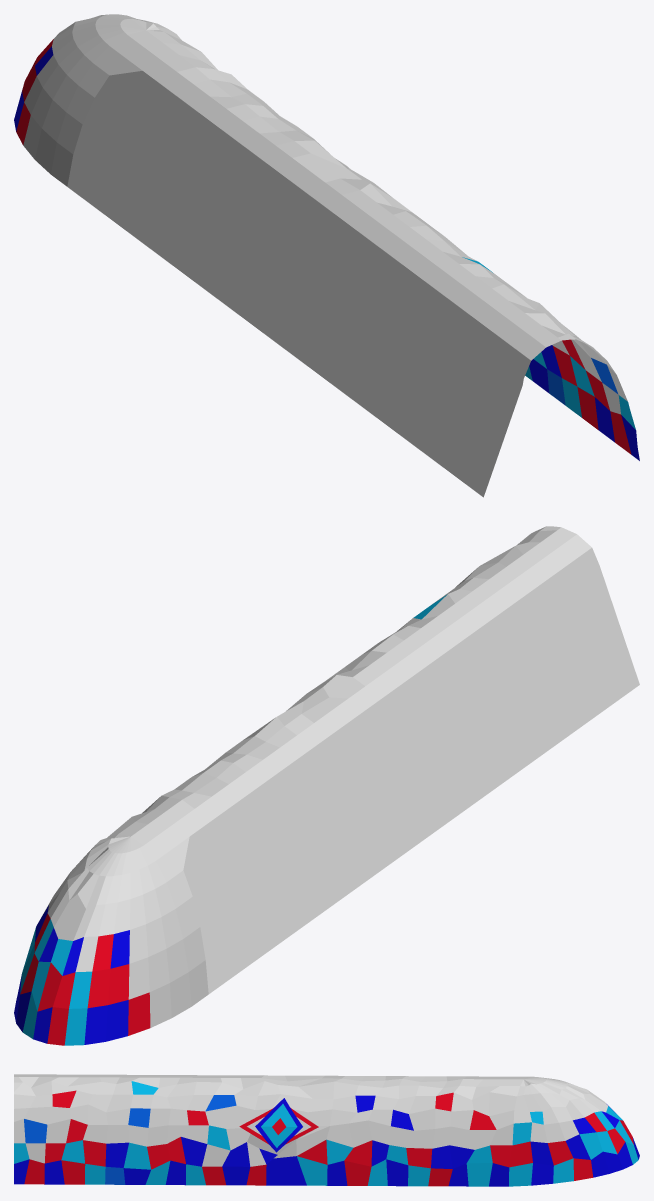
The model's file is ParteAlargadaBaja1.fbx.
The picture shows the model from 3 angles, top to bottom: view 1: azimuth 30°, elevation 25°; view 2: azimuth 150°, elevation 25°; view 3: azimuth 270°, elevation 25°; orthographic projection. The views are drawn at different scales.
Parts seen in each view (by area): view 1: ParteAlargadaBaja1; view 2: ParteAlargadaBaja1; view 3: ParteAlargadaBaja1.
Part boxes in pixels (<box>): ParteAlargadaBaja1: <box>14,14,639,497</box>; ParteAlargadaBaja1: <box>14,526,639,1045</box>; ParteAlargadaBaja1: <box>14,1074,639,1186</box>.
Size of the model in its own units: 96.93 by 80.47 by 534.
